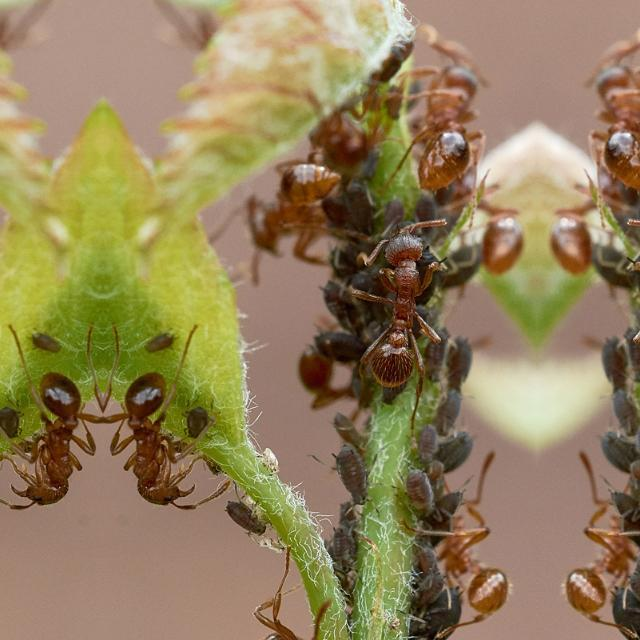Myrmica: (385, 445, 521, 639), (234, 118, 378, 266), (349, 208, 449, 406), (102, 336, 206, 522), (0, 336, 102, 522), (550, 445, 640, 639), (406, 24, 498, 206), (572, 24, 640, 206), (442, 170, 526, 274), (546, 170, 630, 274), (284, 290, 358, 408), (242, 564, 321, 640)
